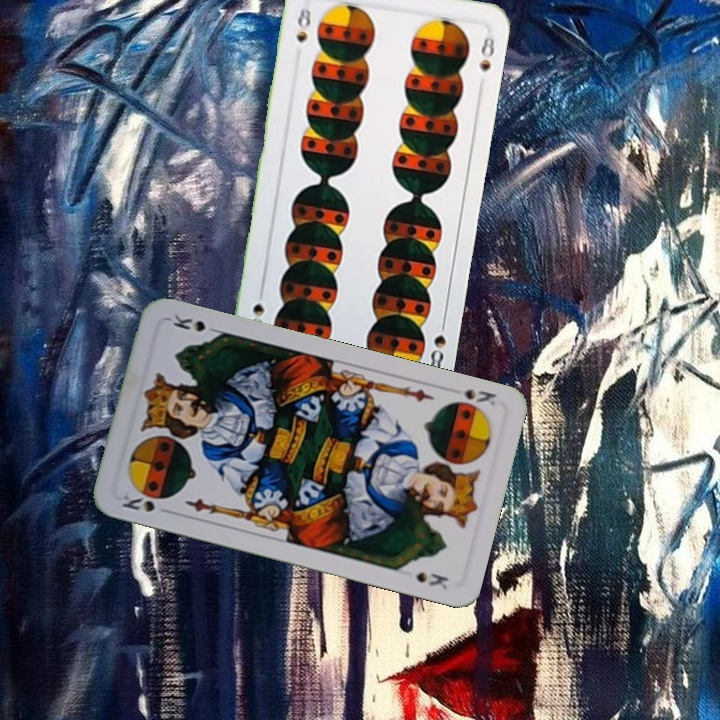S8: (426, 314, 449, 373), (292, 3, 314, 45)
SK: (117, 487, 168, 515), (459, 384, 499, 408)
